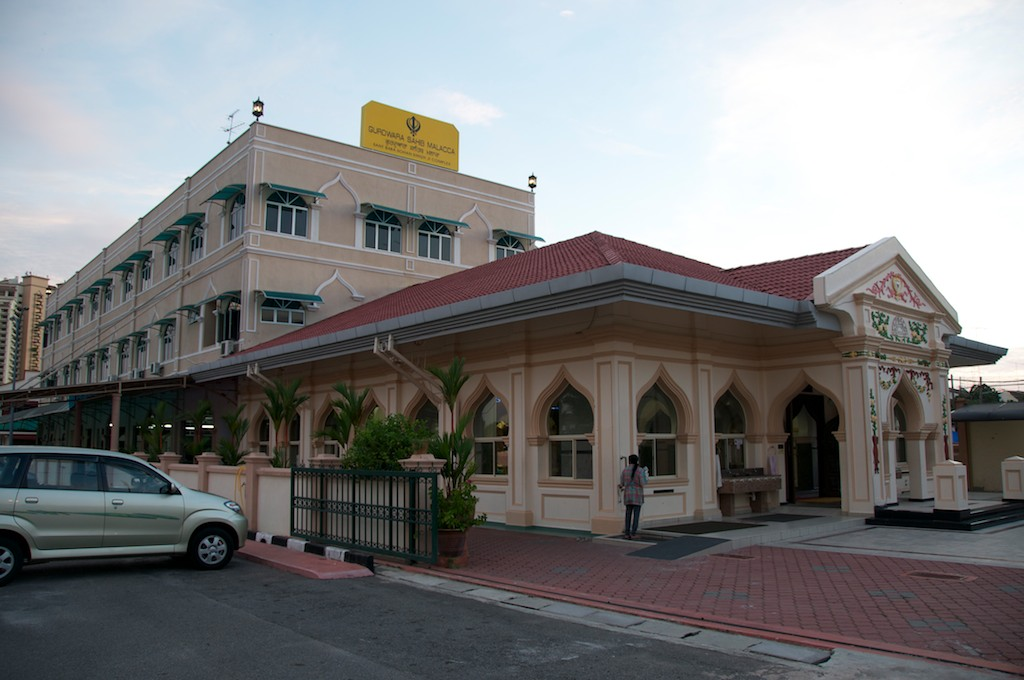Gurdwara: (55, 81, 975, 545)
